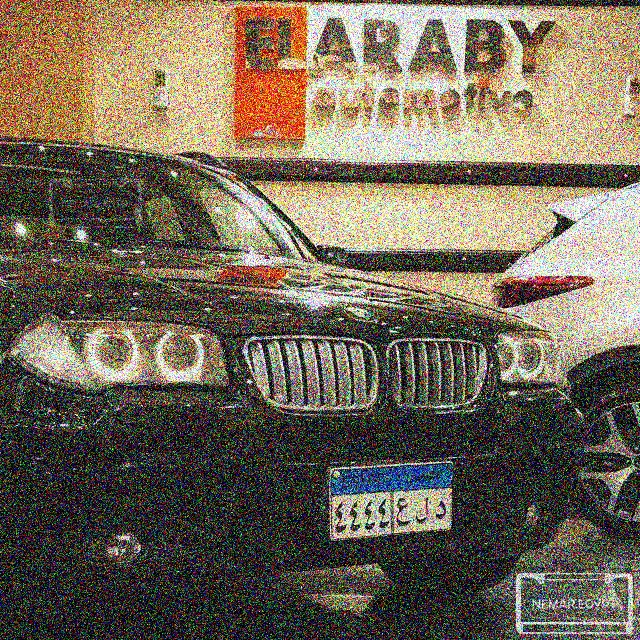License Plate: (326, 459, 455, 541)
